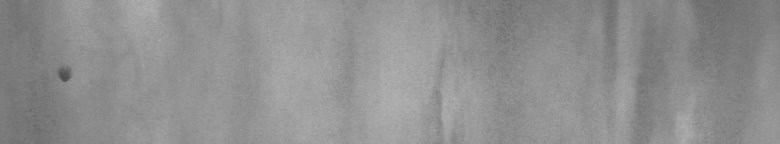fi: (55, 60, 76, 88)
